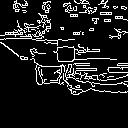cube: (53, 45, 78, 66)
